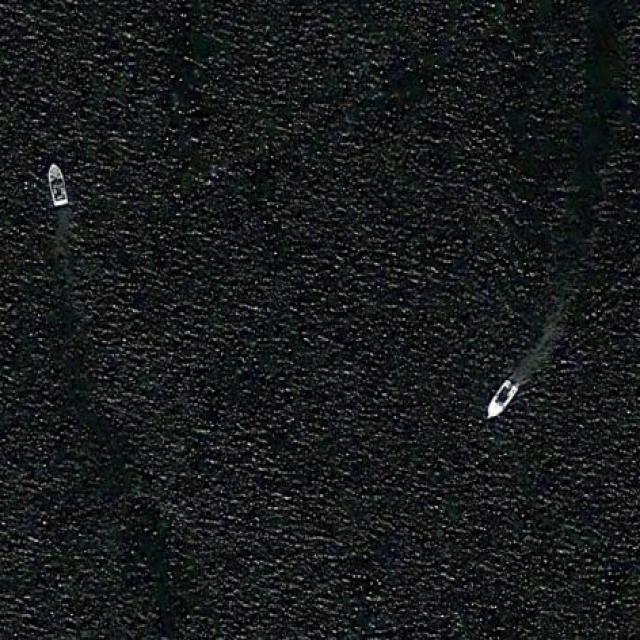ship: (484, 372, 524, 420), (45, 158, 72, 208)
